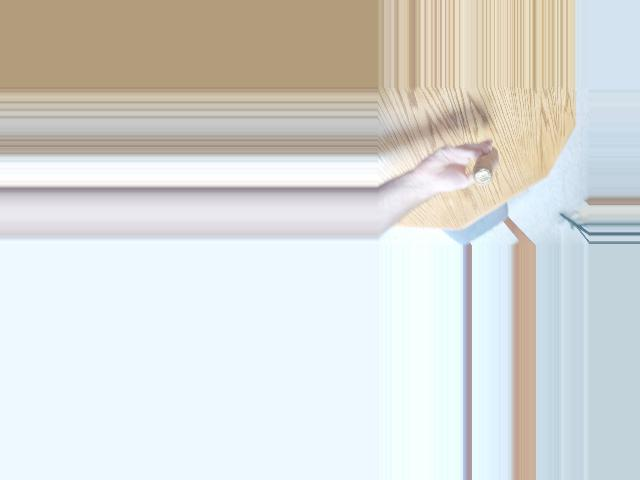sweet_potato: (466, 145, 499, 190)
